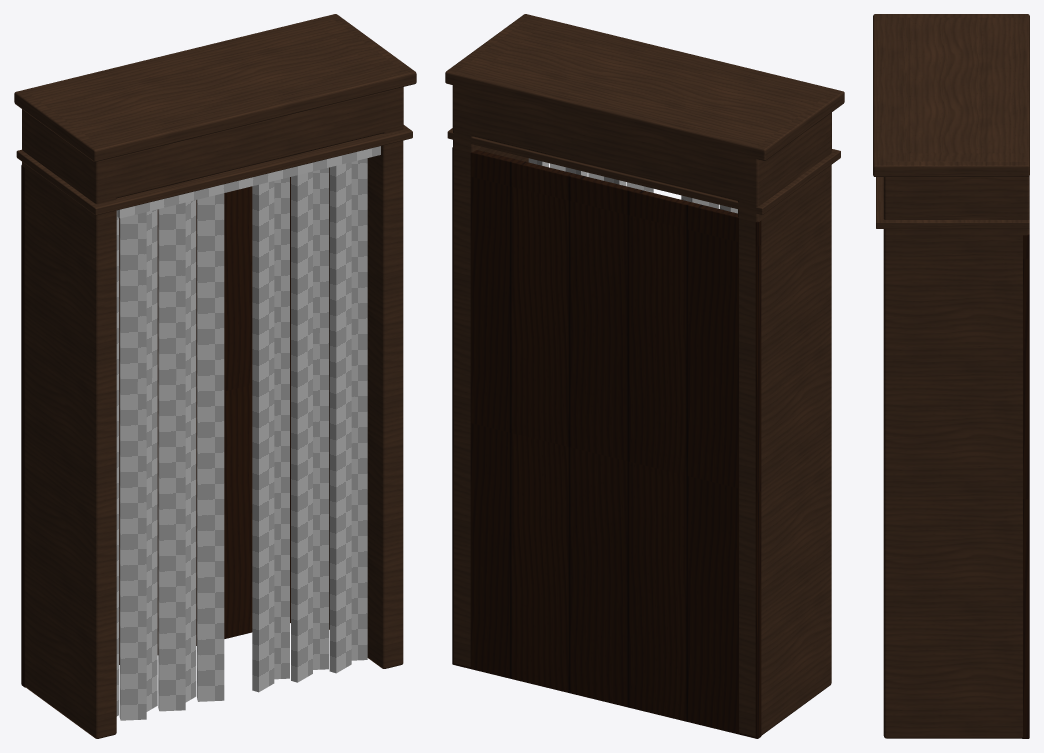
The model's file is curtainAlcove.glb.
3 renders of one model, left to right at view 1: azimuth 30°, elevation 25°; view 2: azimuth 150°, elevation 25°; view 3: azimuth 270°, elevation 25°, orthographic. The views are drawn at different scales.
Parts seen in each view (by area): view 1: curtainAlcove, dyn_velvet_variant; view 2: curtainAlcove, dyn_velvet_variant; view 3: curtainAlcove.
Boxes of the visible parts, <box> form: curtainAlcove: <box>14,14,416,738</box>; dyn_velvet_variant: <box>116,146,380,720</box>; curtainAlcove: <box>445,14,844,738</box>; dyn_velvet_variant: <box>528,158,737,213</box>; curtainAlcove: <box>873,14,1029,738</box>.
Bounding box in the file's own units: 1.36 × 2.4 × 0.5907.
Materials: 4 (4 with a texture image).
